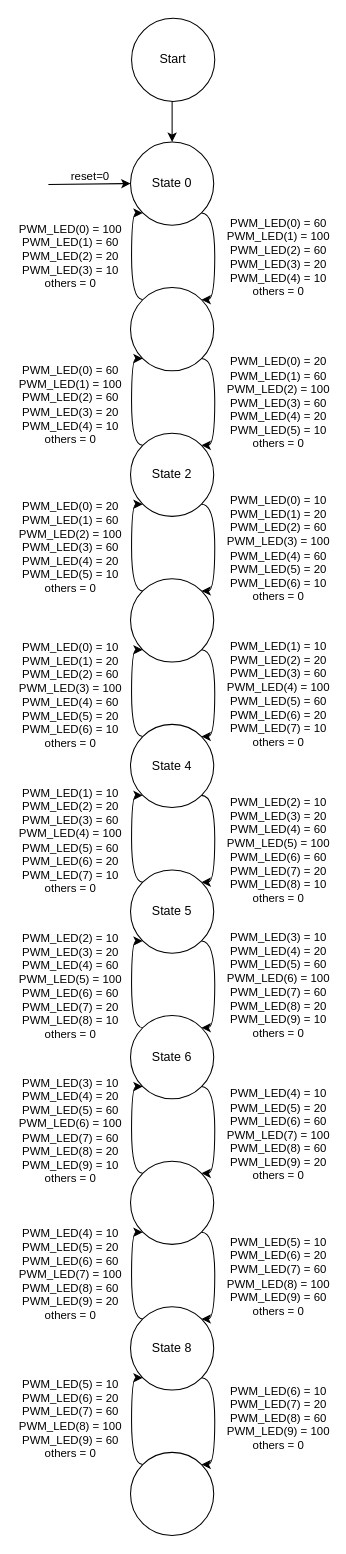
Image size: 346x1554. Some labels were removed from this diagram. Here are the shapes that lost their labels. From the top down, the centre of each, then its label:
the point at 171,329: State 1
the point at 171,620: State 3
the point at 171,1202: State 7
the point at 171,1493: State 9
